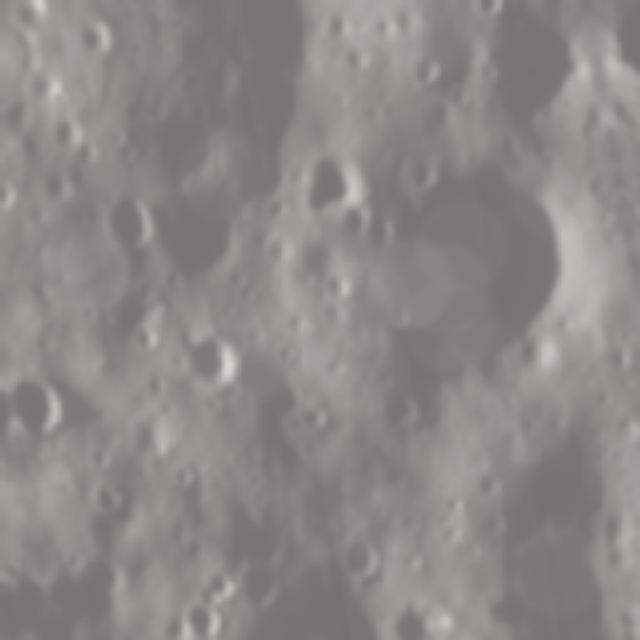crater: (340, 132, 623, 405), (463, 0, 606, 135), (129, 162, 262, 296), (127, 89, 227, 197), (284, 137, 376, 229), (163, 325, 251, 407), (4, 360, 79, 446), (92, 185, 162, 266), (324, 524, 396, 590), (379, 582, 464, 633), (40, 107, 94, 165), (198, 556, 252, 606), (76, 470, 127, 522), (178, 595, 228, 640), (405, 42, 446, 92), (165, 452, 203, 500), (76, 32, 129, 62), (623, 416, 640, 470)
